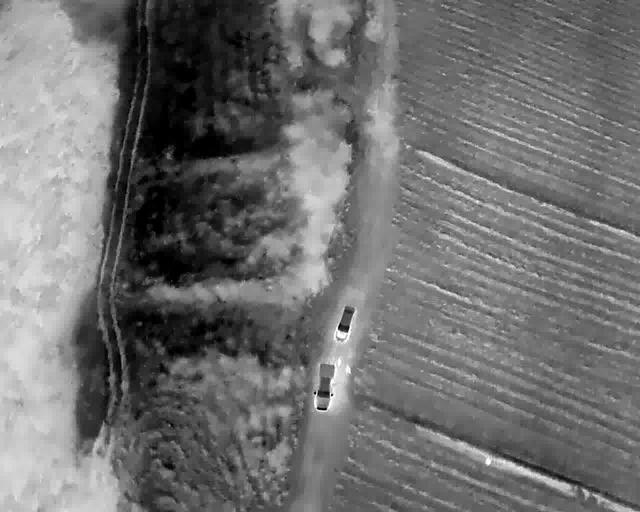car: (314, 363, 334, 411), (337, 305, 352, 342)
person: (345, 363, 352, 376), (337, 355, 343, 367), (484, 458, 491, 465)
